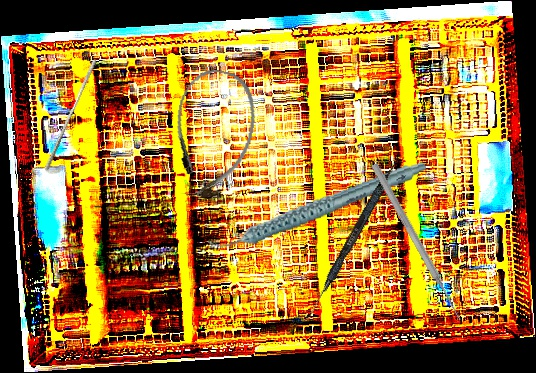Cannula: (162, 64, 264, 205)
Handpiece: (200, 159, 434, 252)
Pusher: (369, 161, 465, 324), (43, 57, 98, 174)
Spatula Surgical: (303, 151, 403, 324)
